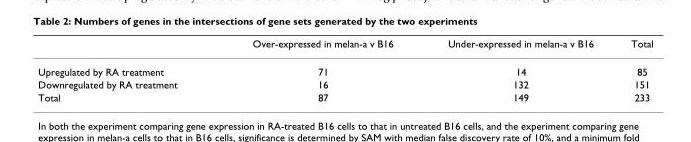table: (37, 37, 652, 102)
table column: (214, 37, 419, 102), (419, 37, 611, 102), (37, 37, 214, 102), (611, 37, 652, 102)
table column header: (37, 37, 652, 57)
table row: (37, 37, 652, 57), (37, 57, 652, 77), (37, 77, 652, 90), (37, 90, 652, 102)
